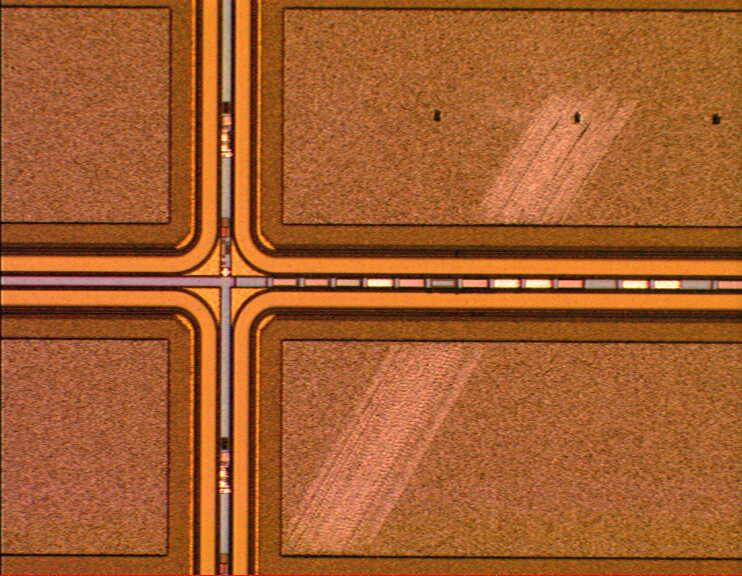SCRATCH: (282, 85, 657, 558)
